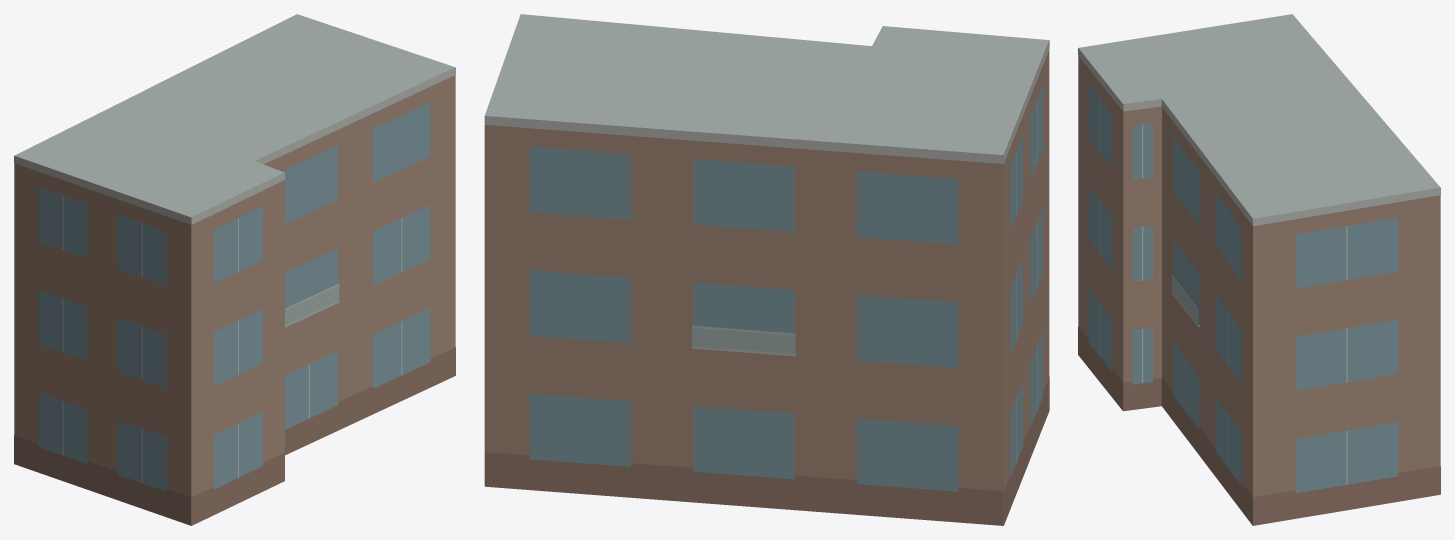
The model's file is survey-upis-32987447.glb.
3 views of the same model, side by side, from view 1: azimuth 30°, elevation 25°; view 2: azimuth 150°, elevation 25°; view 3: azimuth 270°, elevation 25° (orthographic). The views are drawn at different scales.
Visible parts, largest first — view 1: survey-upis-32987447.tmp; view 2: survey-upis-32987447.tmp; view 3: survey-upis-32987447.tmp.
Boxes of the visible parts, bbox=[...] form: survey-upis-32987447.tmp: bbox=[14, 14, 455, 525]; survey-upis-32987447.tmp: bbox=[484, 14, 1049, 525]; survey-upis-32987447.tmp: bbox=[1078, 14, 1440, 525].
Bounding box in the file's own units: 14.46 × 10.1 × 10.82.
